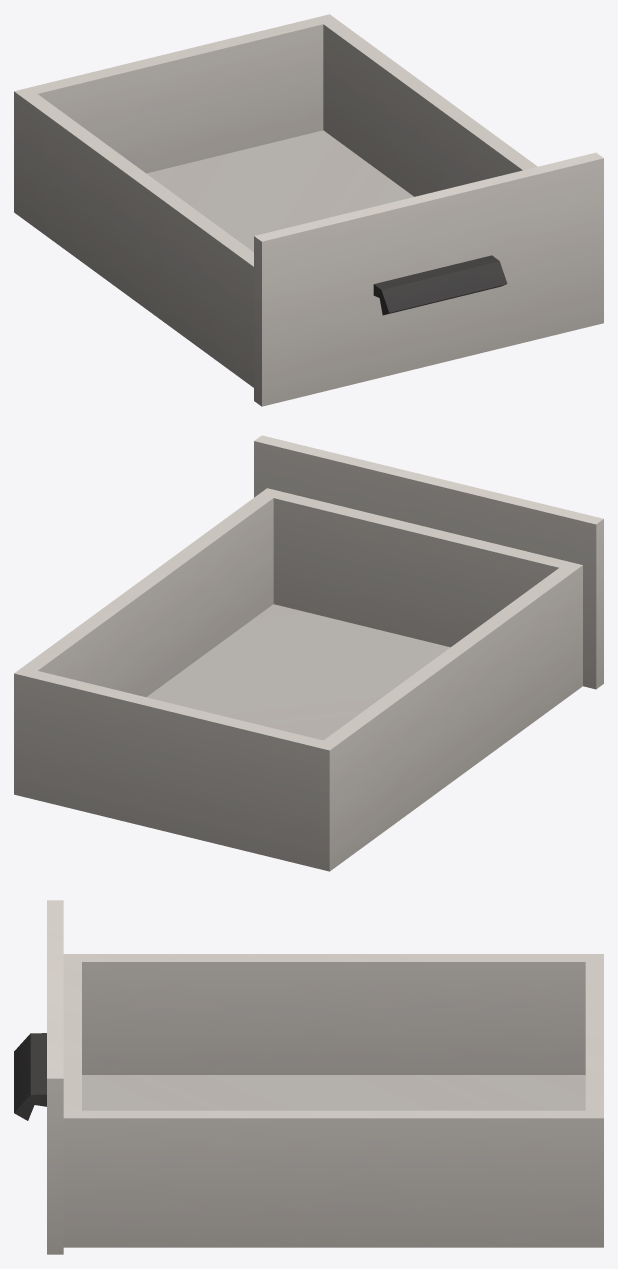
Rendered from DeskSideCabinet_Small_TopDrawer.fbx.
3 renders of one model, top to bottom at view 1: azimuth 30°, elevation 25°; view 2: azimuth 150°, elevation 25°; view 3: azimuth 270°, elevation 25°, orthographic. The views are drawn at different scales.
Visible parts, largest first — view 1: DeskSideCabinet_Small_TopDrawer; view 2: DeskSideCabinet_Small_TopDrawer; view 3: DeskSideCabinet_Small_TopDrawer.
Part boxes in pixels (left/top/right/bottom): DeskSideCabinet_Small_TopDrawer: left=14, top=14, right=603, bottom=406; DeskSideCabinet_Small_TopDrawer: left=14, top=435, right=603, bottom=871; DeskSideCabinet_Small_TopDrawer: left=14, top=900, right=603, bottom=1254.
Bounding box in the file's own units: 38.88 × 17.91 × 54.43.
